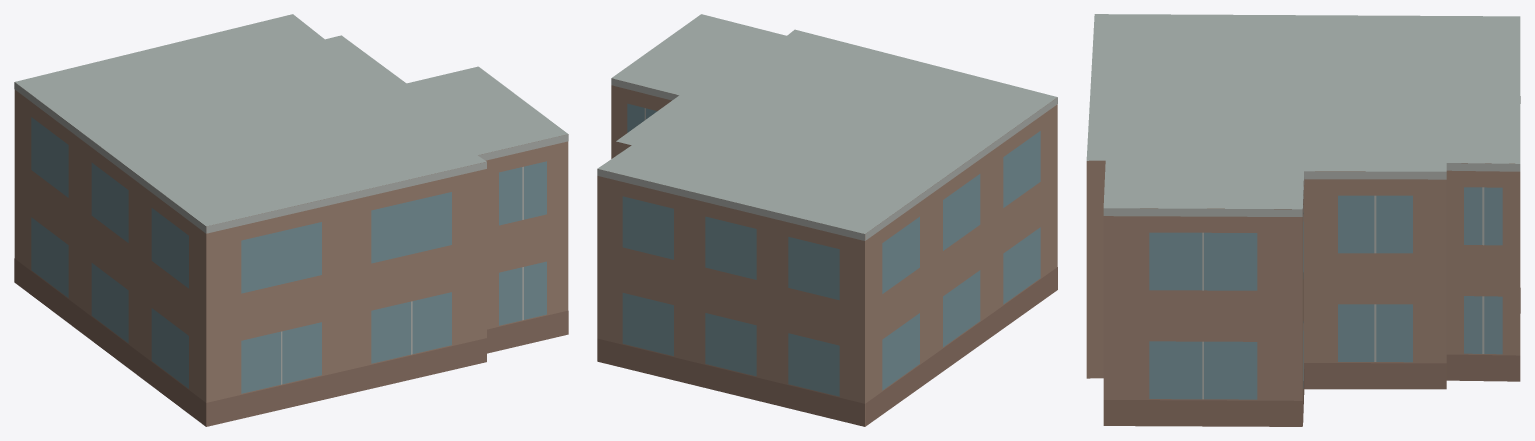
Rendered from survey-upis-32680435.glb.
3 renders of one model, left to right at view 1: azimuth 30°, elevation 25°; view 2: azimuth 150°, elevation 25°; view 3: azimuth 270°, elevation 25°, orthographic. The views are drawn at different scales.
Parts seen in each view (by area): view 1: survey-upis-32680435.tmp; view 2: survey-upis-32680435.tmp; view 3: survey-upis-32680435.tmp.
Boxes of the visible parts, <box> form: survey-upis-32680435.tmp: <box>14,14,568,426</box>; survey-upis-32680435.tmp: <box>597,14,1057,426</box>; survey-upis-32680435.tmp: <box>1086,14,1520,426</box>.
Bounding box in the file's own units: 12.89 × 6.7 × 12.11.
